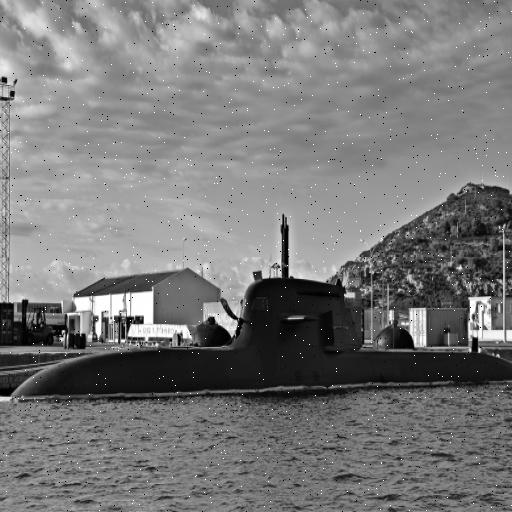submarine: (14, 211, 512, 398)
